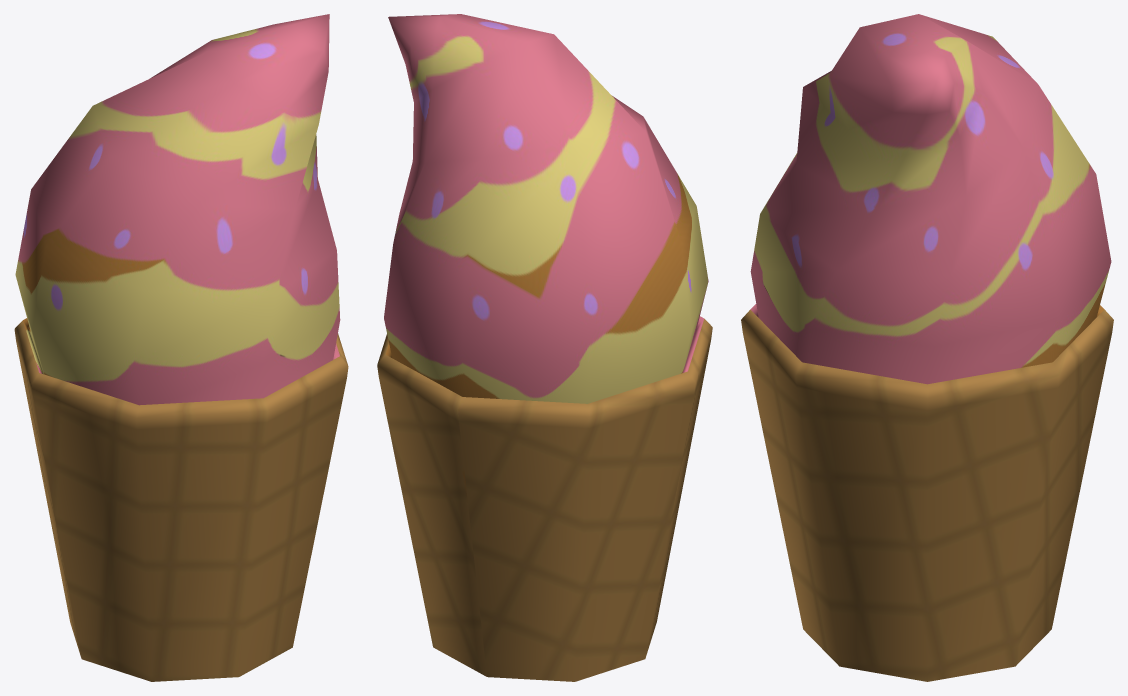
File: Food_Ice_Cream.fbx
3 views of the same model, side by side, from view 1: azimuth 30°, elevation 25°; view 2: azimuth 150°, elevation 25°; view 3: azimuth 270°, elevation 25° (orthographic). The views are drawn at different scales.
Visible parts, largest first — view 1: Food_Ice_Cream; view 2: Food_Ice_Cream; view 3: Food_Ice_Cream.
Boxes of the visible parts, <box> form: Food_Ice_Cream: <box>14,14,348,681</box>; Food_Ice_Cream: <box>377,14,712,681</box>; Food_Ice_Cream: <box>741,14,1113,681</box>.
Bounding box in the file's own units: 17.36 × 32.22 × 17.22.
